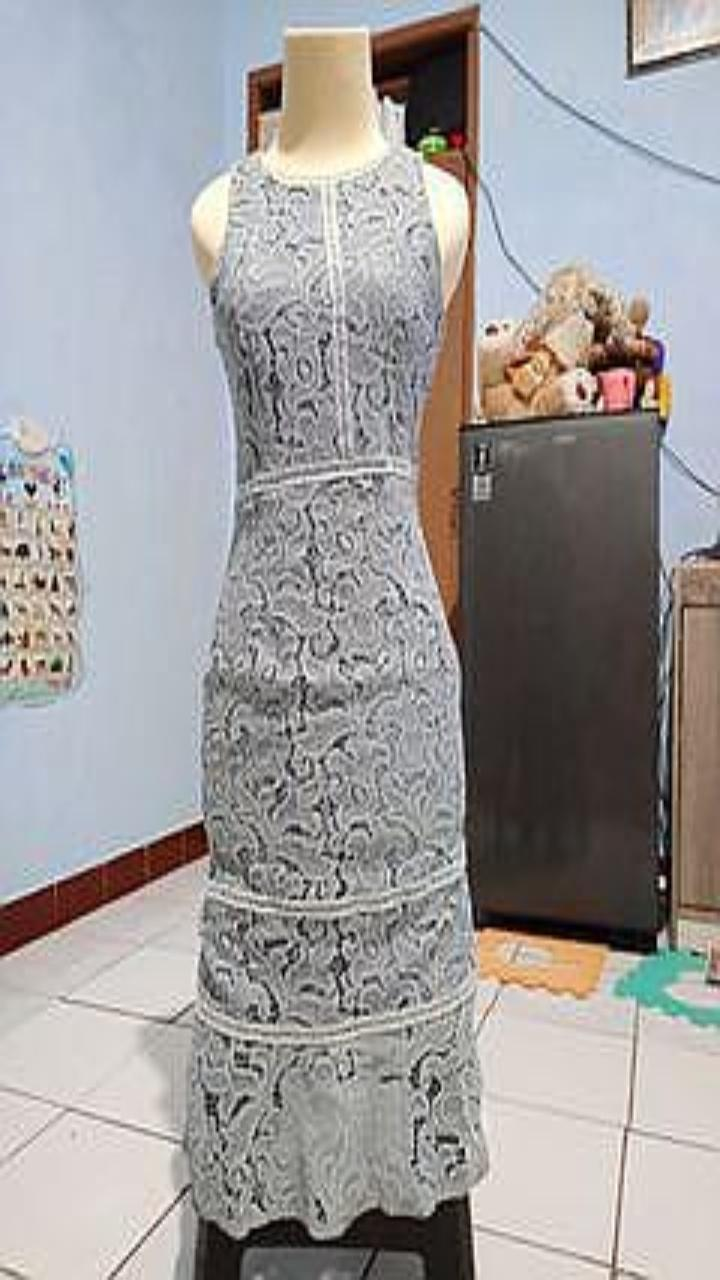Dresses: (184, 142, 487, 1238)
